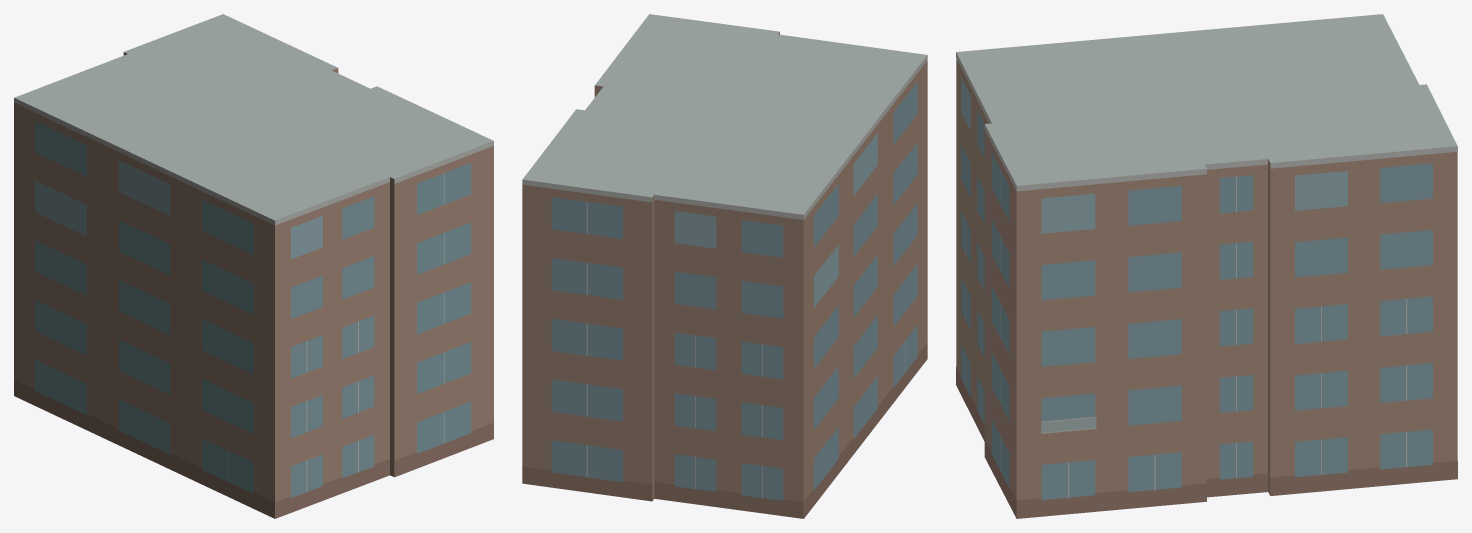
The model's file is survey-upis-32982124.glb.
The picture shows the model from 3 angles, left to right: view 1: azimuth 30°, elevation 25°; view 2: azimuth 150°, elevation 25°; view 3: azimuth 270°, elevation 25°; orthographic projection. The views are drawn at different scales.
Visible parts, largest first — view 1: survey-upis-32982124.tmp; view 2: survey-upis-32982124.tmp; view 3: survey-upis-32982124.tmp.
Part boxes in pixels (box(x1,y1,x2,y2)): survey-upis-32982124.tmp: box(14, 14, 493, 518); survey-upis-32982124.tmp: box(522, 14, 927, 518); survey-upis-32982124.tmp: box(956, 14, 1457, 518).
Size of the model in its own units: 16.29 by 14.7 by 20.08.
